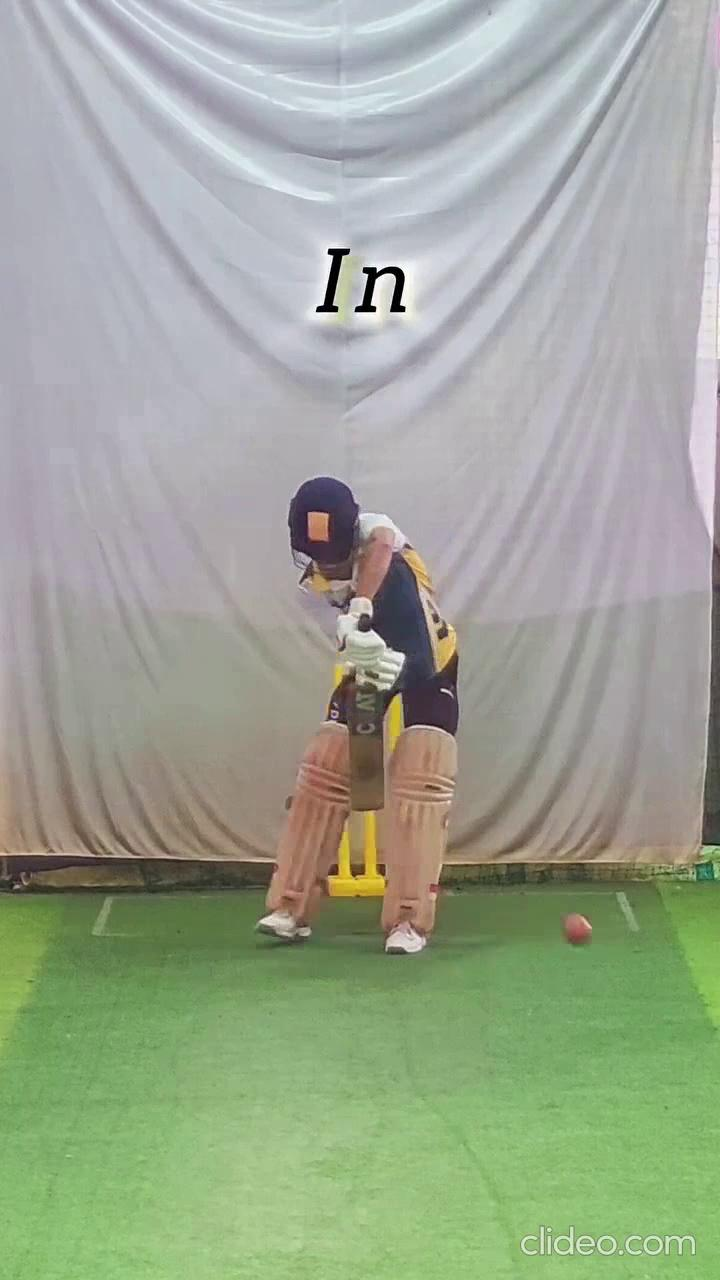bat: (348, 688, 385, 812)
